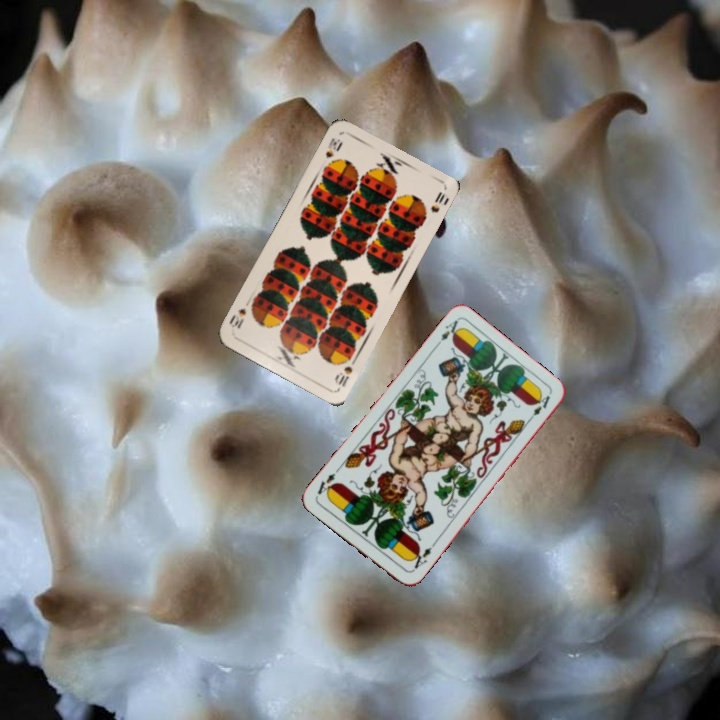EA: (431, 316, 464, 351), (406, 539, 438, 574)
S10: (331, 353, 359, 389), (321, 133, 344, 161)
